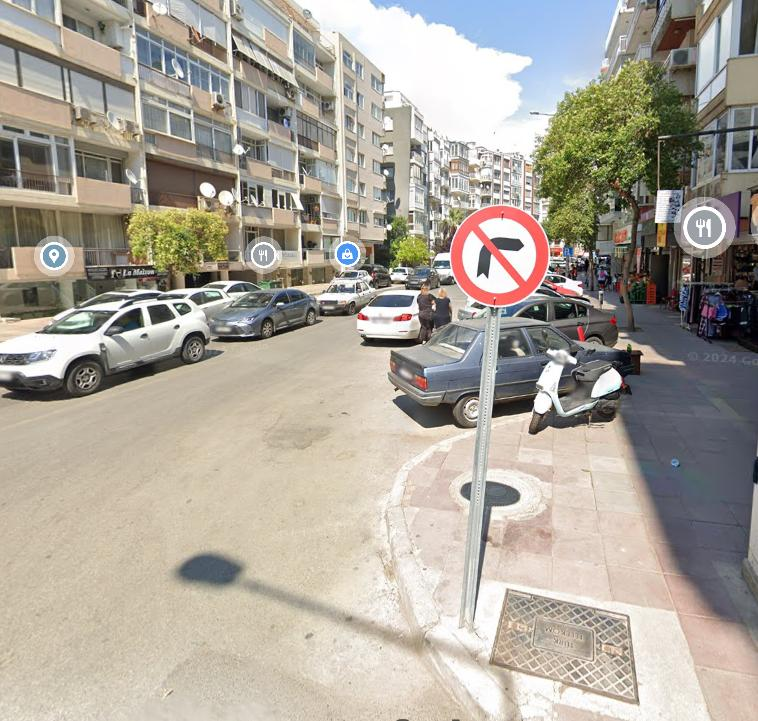rightturnsareforbidden: (457, 209, 548, 298)
